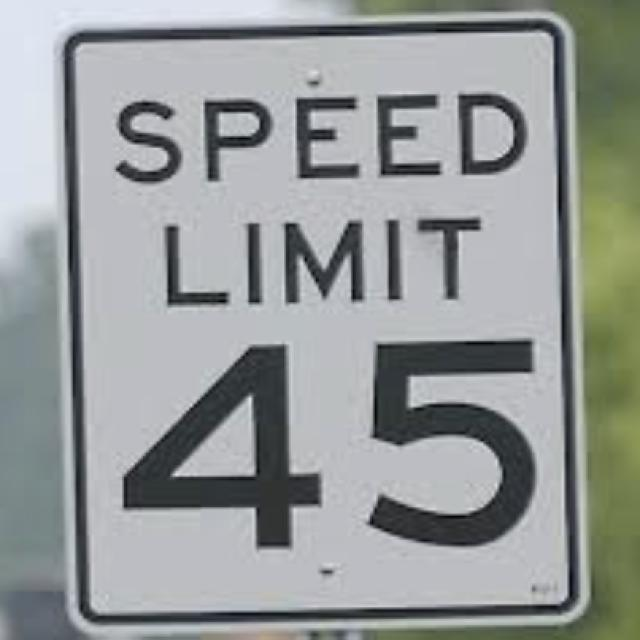speedLimit45: (87, 32, 562, 624)
